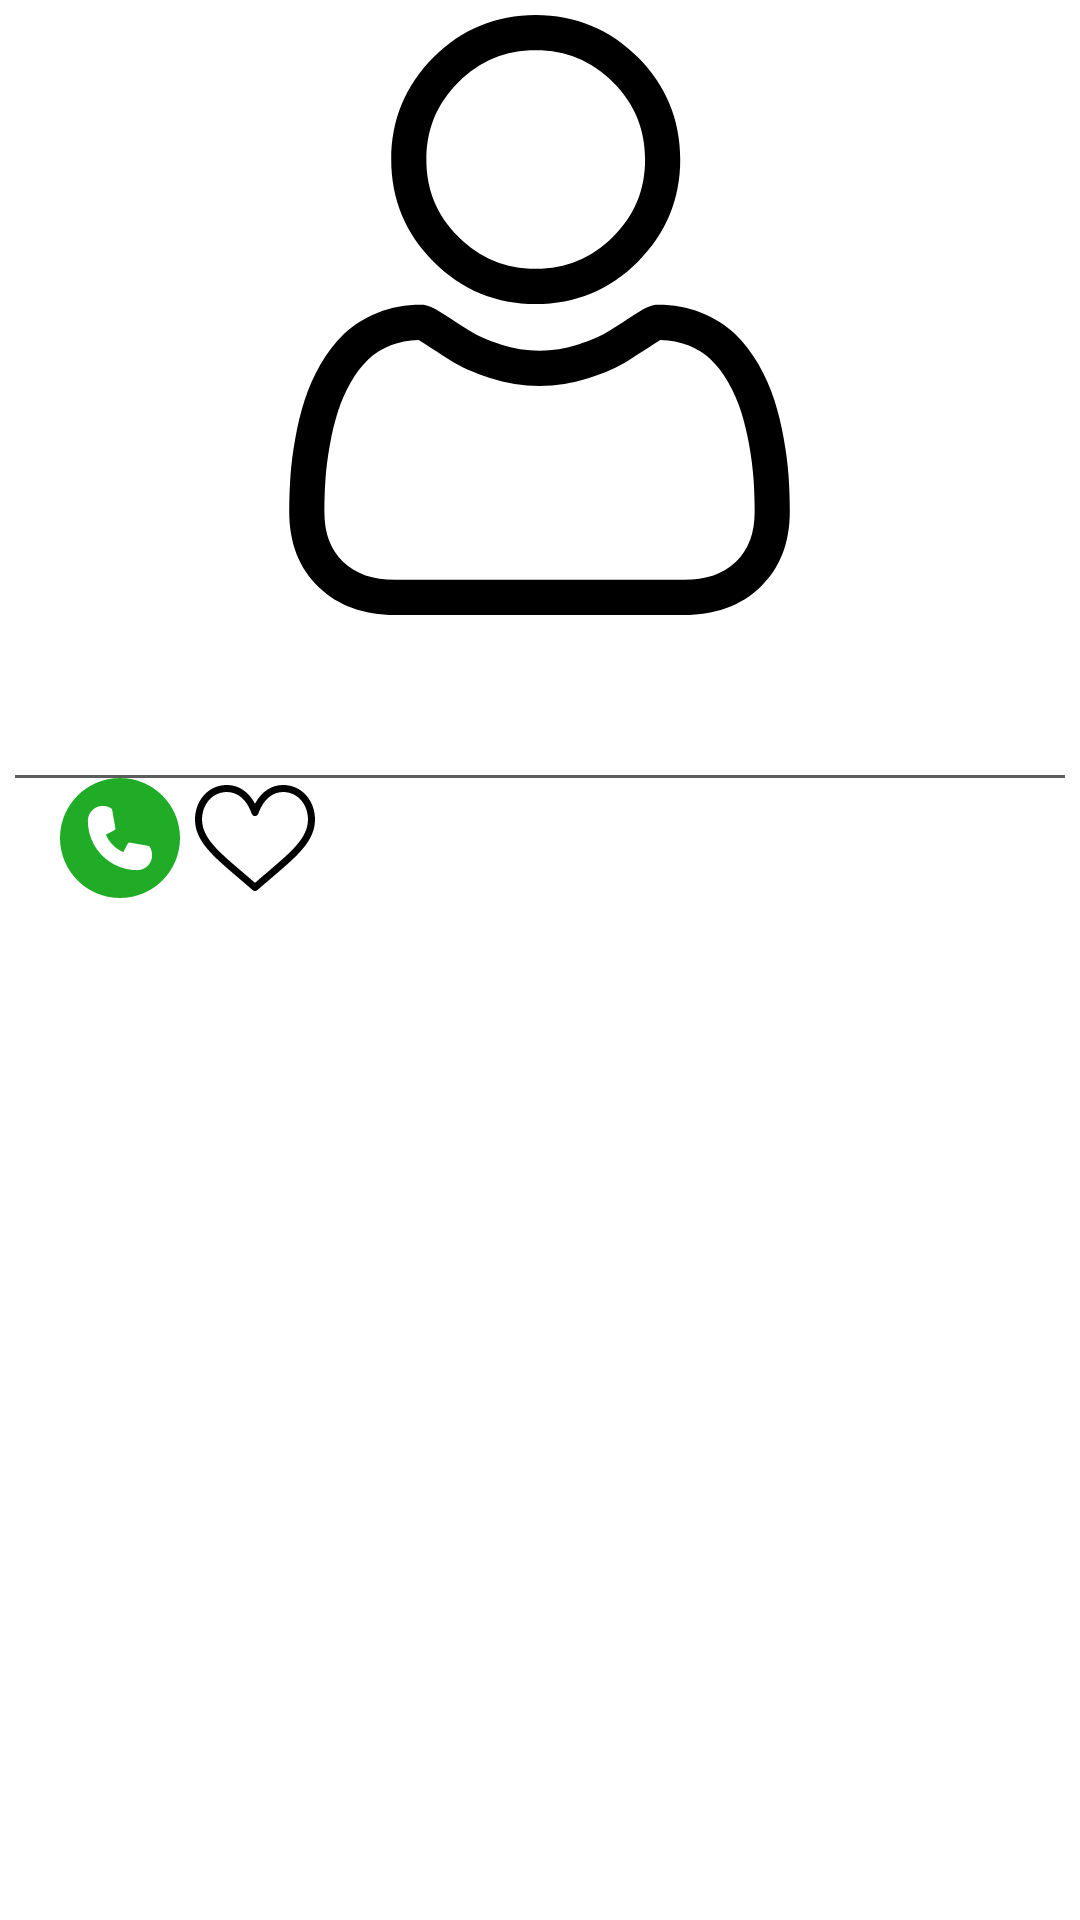

Icons on this 1080 × 1920 Android screen, each with its box as bbox(x1, y1, x2, y2):
like: bbox(195, 785, 315, 891)
phone call: bbox(60, 778, 180, 898)
